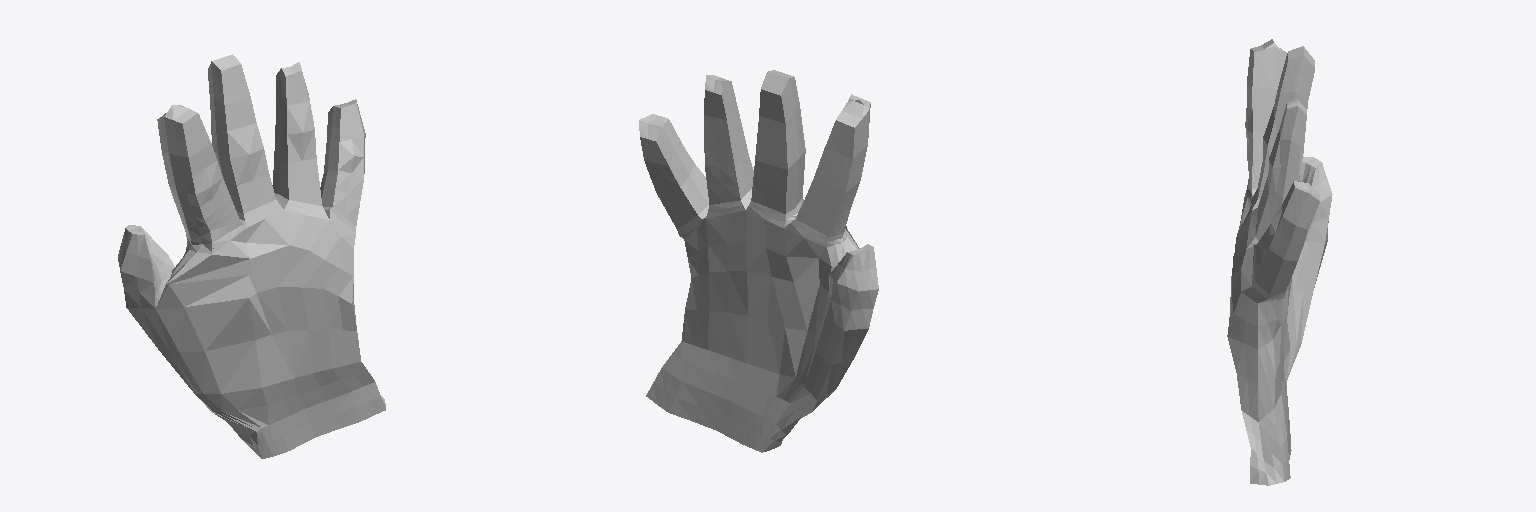
Rendered from flexion0006.obj.
3 views of the same model, side by side, from view 1: azimuth 30°, elevation 25°; view 2: azimuth 150°, elevation 25°; view 3: azimuth 270°, elevation 25° (orthographic).
Visible parts, largest first — view 1: Hand; view 2: Hand; view 3: Hand.
Part boxes in pixels (x1,y1,x2,y2): Hand: (118, 54, 385, 458); Hand: (639, 70, 878, 452); Hand: (1227, 39, 1332, 485).
Bounding box in the file's own units: 3.27 × 4.95 × 1.21.